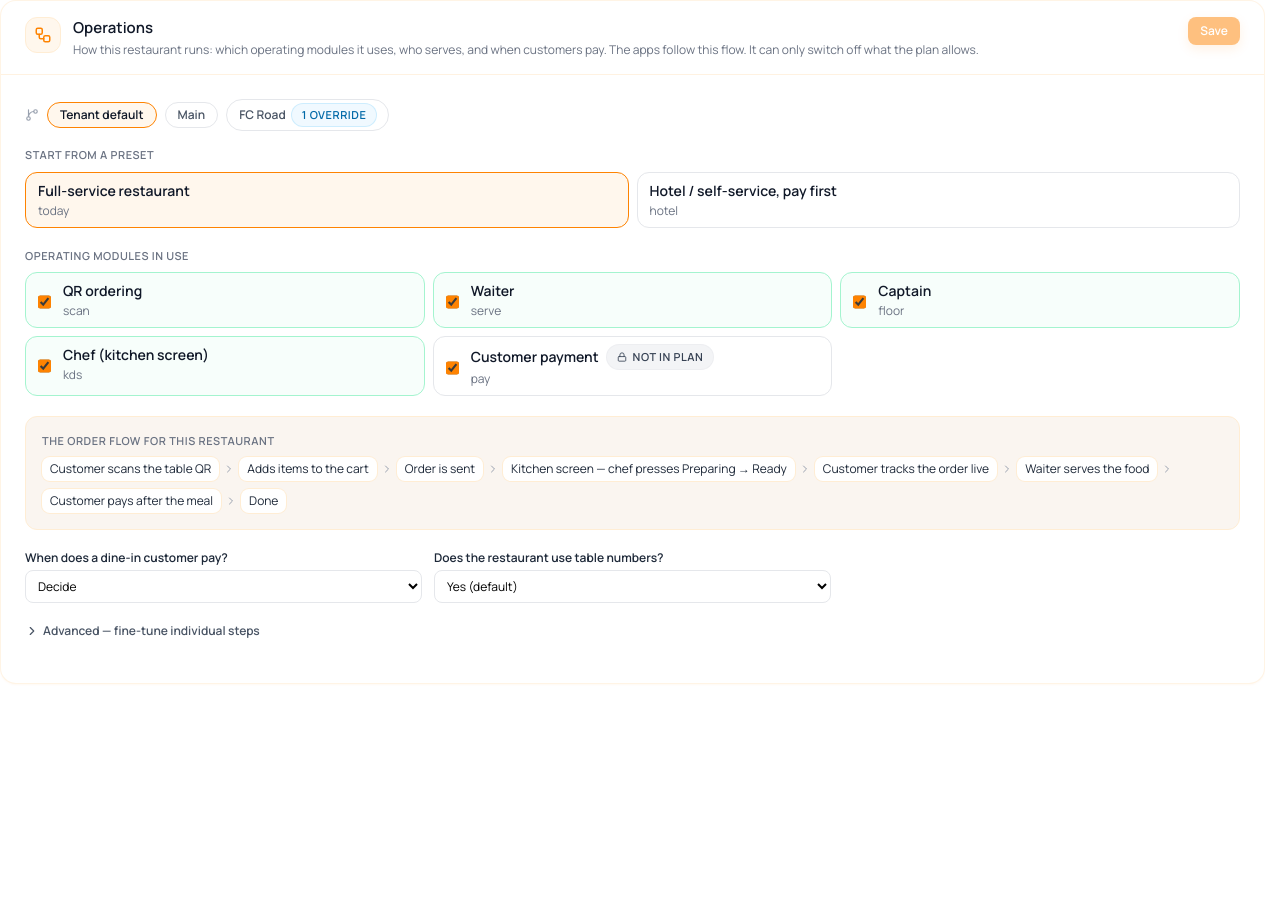
Test case: OperationsPanel › per-branch overrides (design §12.1) › Discard restores the branch's stored profile
The image size is (1280, 900).
Expected: the element with test id "ops-modules" is shown, [25,272,1240,396]
Expected: the element with test id "ops-scope" is shown, [25,98,389,131]
Click the button "FC Road 1 override". click: x=308, y=115
box: [226,98,389,131]
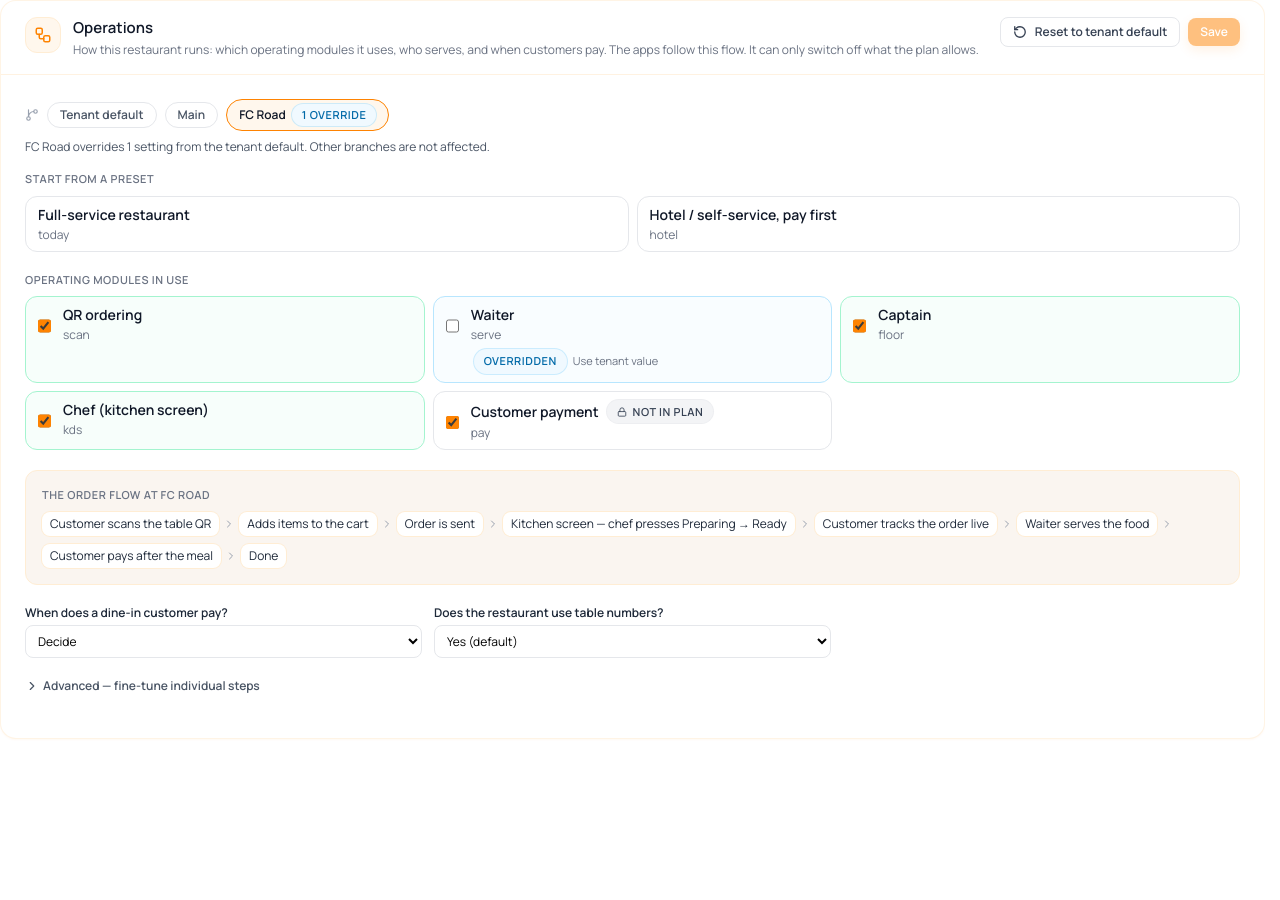
Expected: the text with test id "ops-branch-note" is shown, [25,138,490,155]
Click the checkbox labelled "Chef (kitchen screen)". click: x=44, y=421
box: [38,404,51,438]
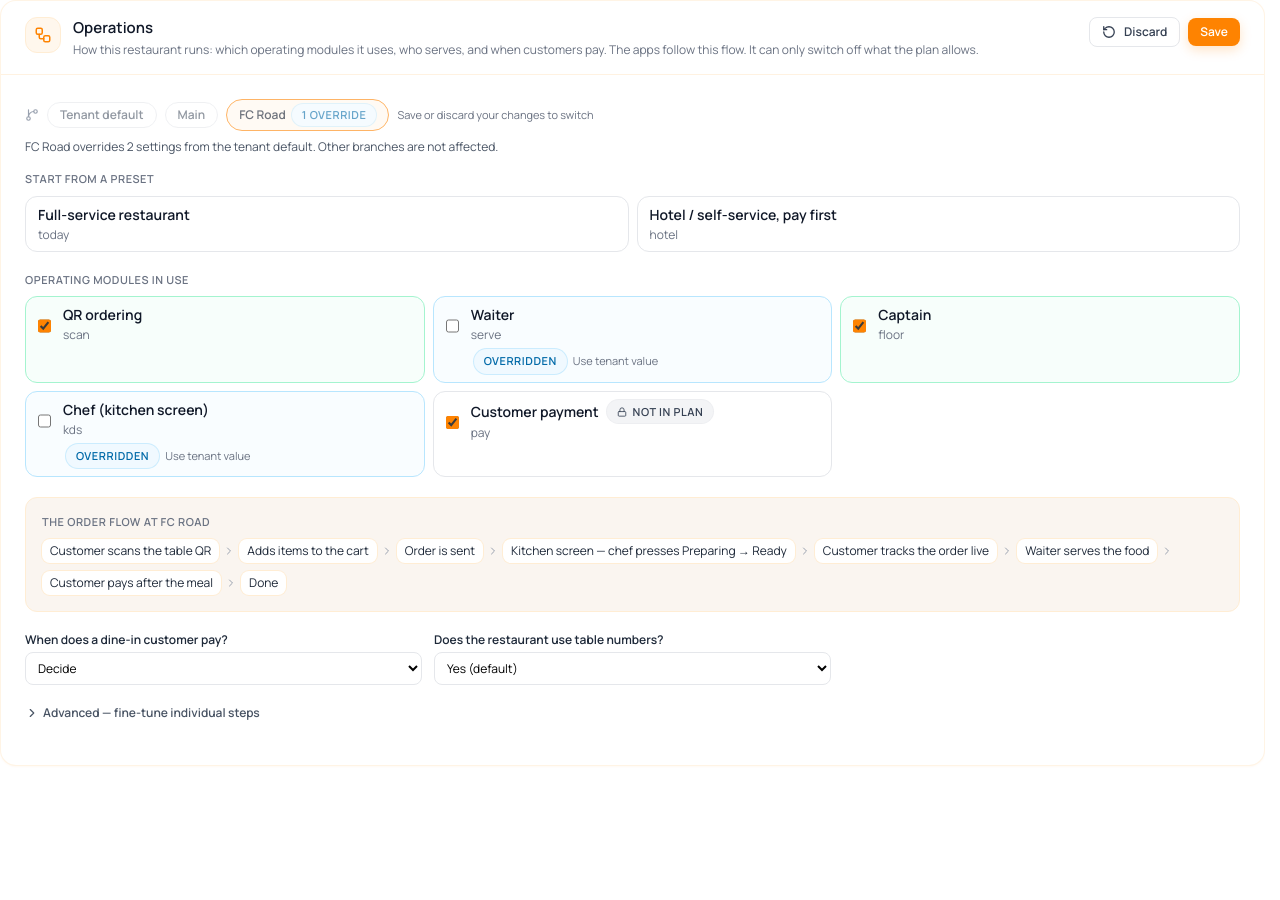
Expected: the button "Discard" is shown
Click the button "Discard". click: x=1135, y=32
box: [1089,17,1180,47]
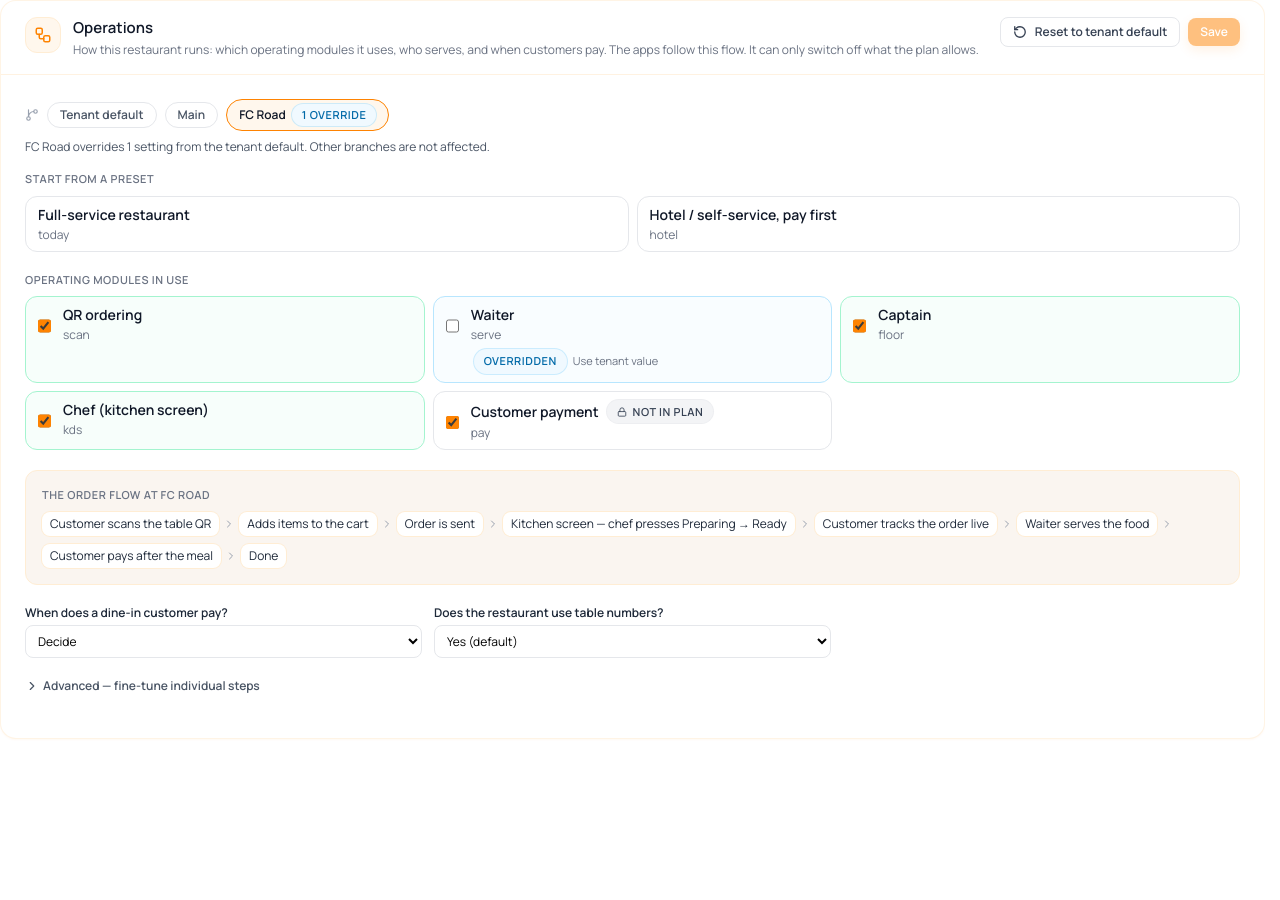
Expected: the checkbox labelled "Chef (kitchen screen)" is checked, [38,404,51,438]
Expected: the checkbox labelled "Waiter" is not checked, [446,309,459,343]
Expected: the button "Save" is disabled, [1188,18,1240,46]
